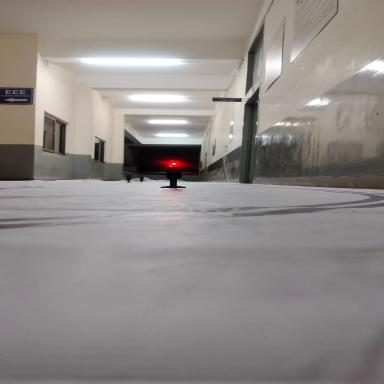traffic red: (144, 146, 225, 208)
